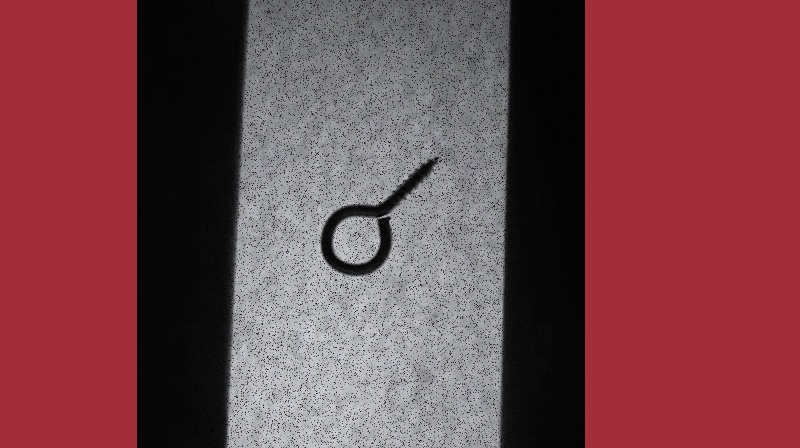O001: (316, 152, 440, 282)
